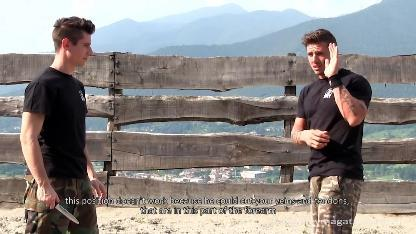knife: (36, 190, 80, 226)
